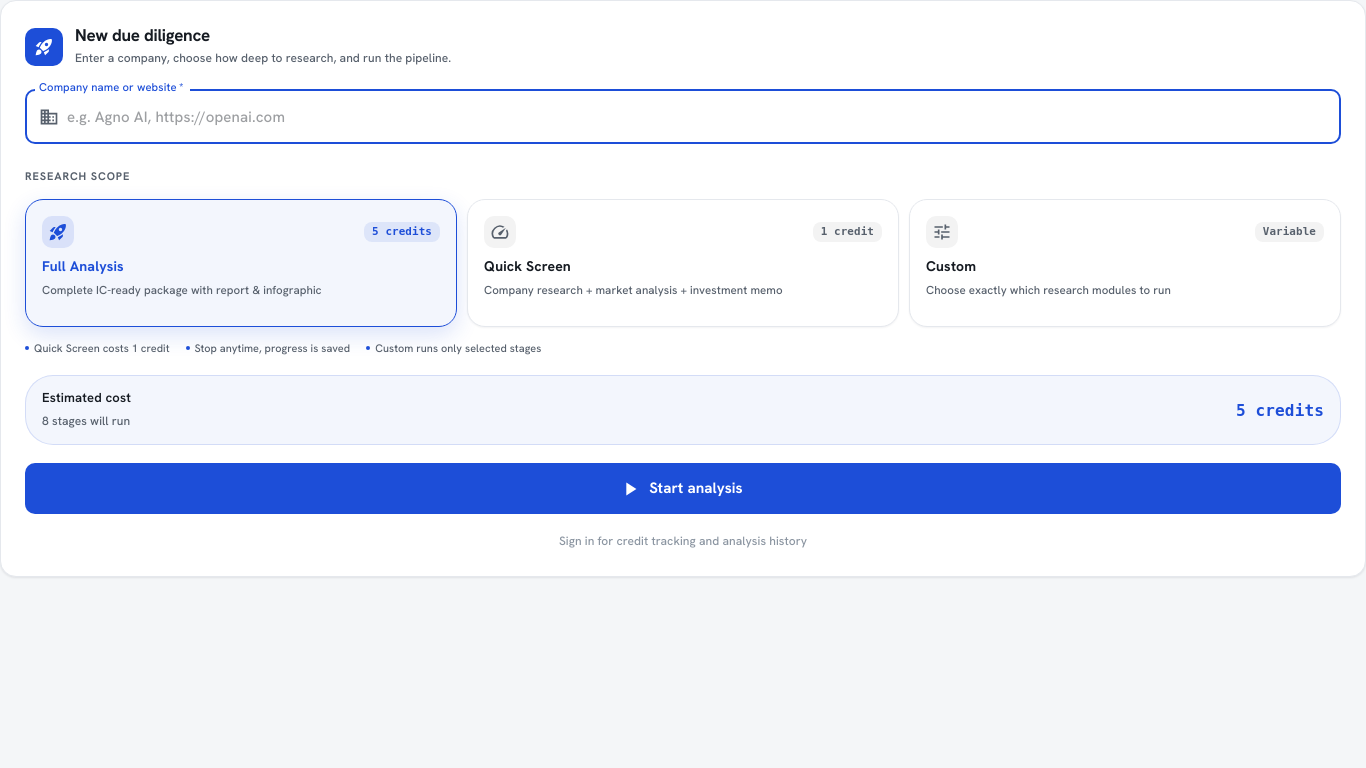
AnalysisForm › blocks submission and surfaces an error when the company is empty
Click the button "Start analysis": {"x": 683, "y": 489} [25, 463, 1341, 514]
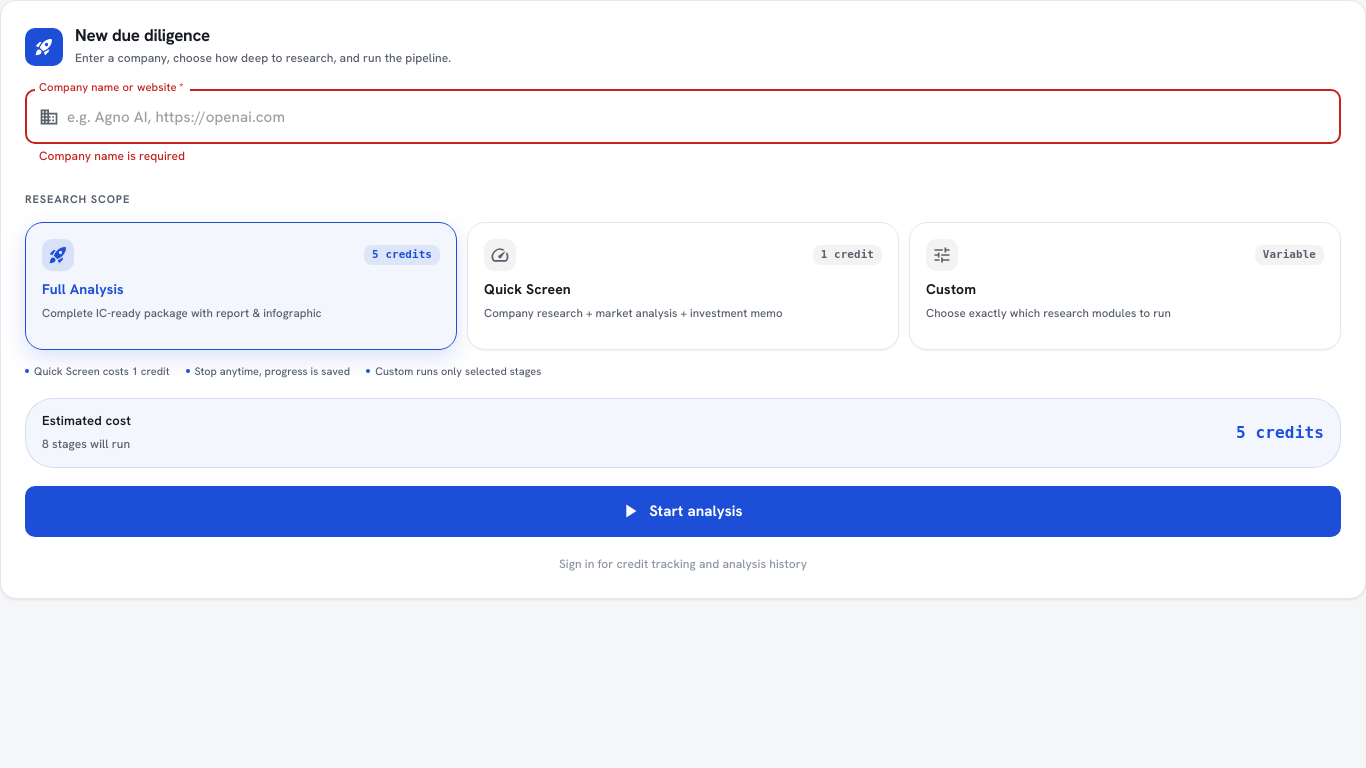
Result: the text "Company name is required" is shown at [39, 148, 185, 164]
